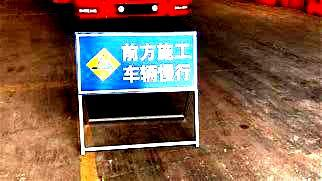sign: (77, 33, 196, 93)
